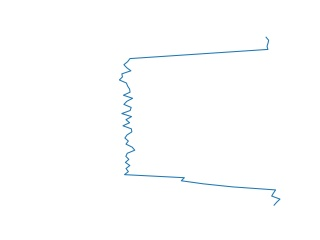distributaryChannelFill: (114, 37, 288, 205)
